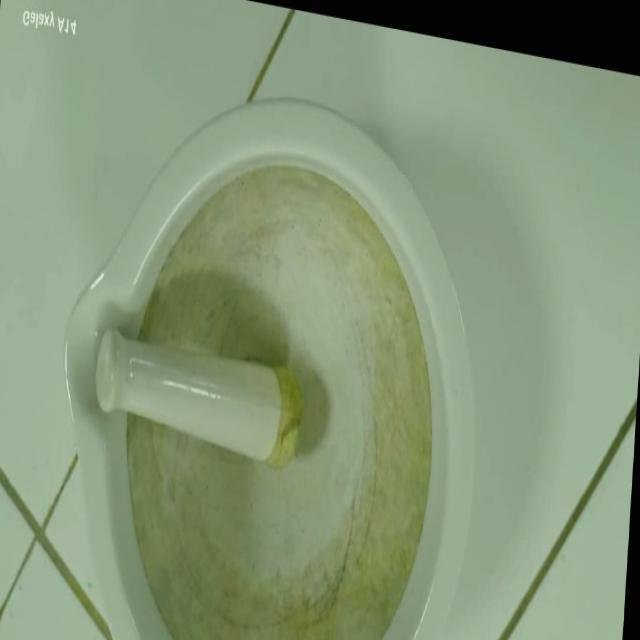Mortar and Pestle: (43, 58, 501, 640)
